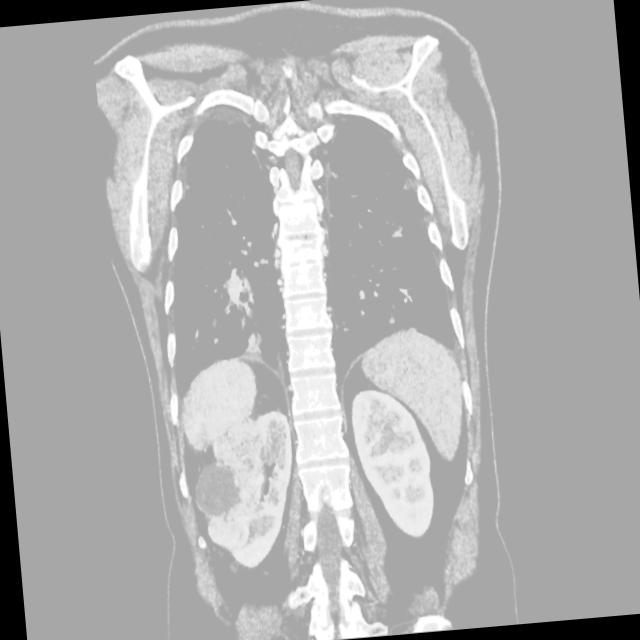TUMOR: (63, 353, 505, 578)
